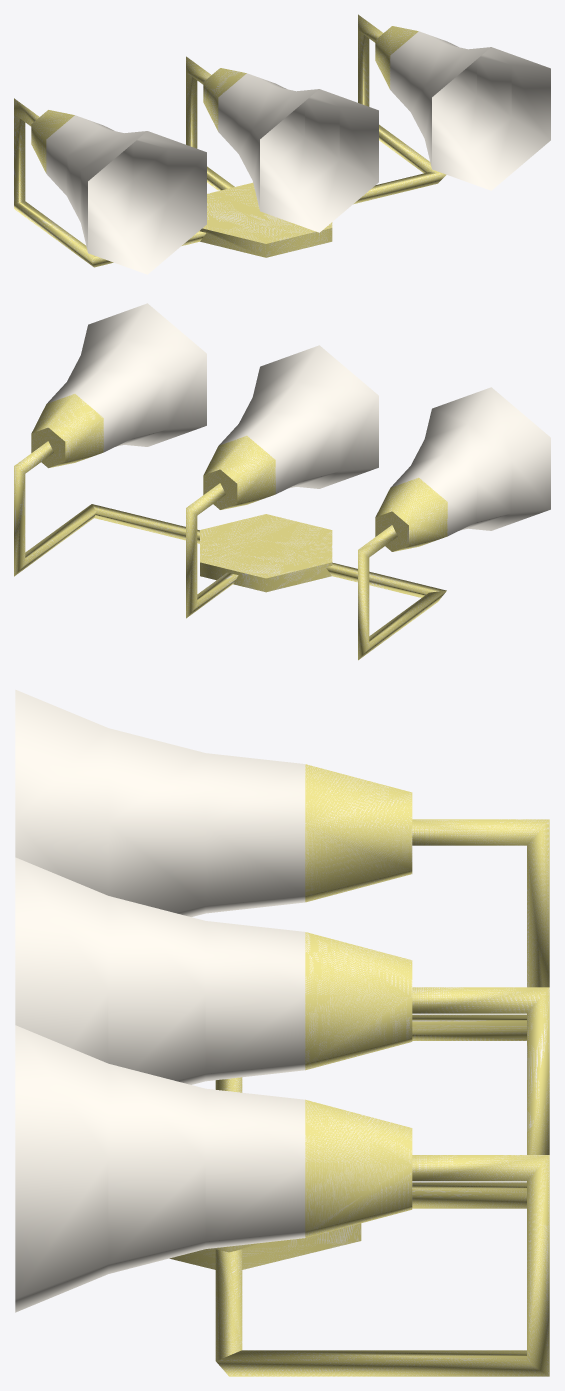
Rendered from bathLight.dae.
The picture shows the model from 3 angles, top to bottom: view 1: azimuth 30°, elevation 25°; view 2: azimuth 150°, elevation 25°; view 3: azimuth 270°, elevation 25°; orthographic projection. The views are drawn at different scales.
Parts seen in each view (by area): view 1: Light_Sconce_Bell_Lamp (×9), Light_Sconce_Bell_Base (×2); view 2: Light_Sconce_Bell_Lamp (×9), Light_Sconce_Bell_Base (×2); view 3: Light_Sconce_Bell_Lamp (×9), Light_Sconce_Bell_Base.
Boxes of the visible parts, <box> form: Light_Sconce_Bell_Lamp (×9): <box>14,14,550,274</box>; Light_Sconce_Bell_Base (×2): <box>92,172,446,267</box>; Light_Sconce_Bell_Lamp (×9): <box>14,303,550,660</box>; Light_Sconce_Bell_Base (×2): <box>92,504,446,597</box>; Light_Sconce_Bell_Lamp (×9): <box>15,689,549,1376</box>; Light_Sconce_Bell_Base: <box>169,1223,361,1360</box>.
Bounding box in the file's own units: 17.5 × 8.75 × 6.35.
